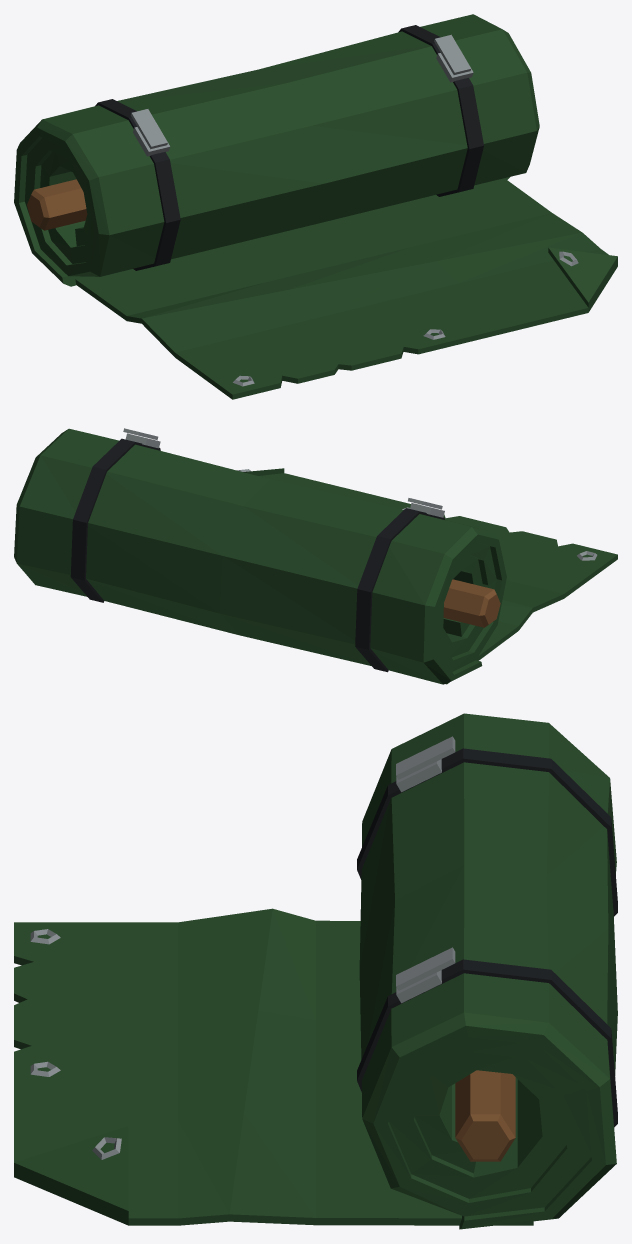
The model's file is rolled-pitch-tarpaulin-c8a93f.glb.
3 renders of one model, top to bottom at view 1: azimuth 30°, elevation 25°; view 2: azimuth 150°, elevation 25°; view 3: azimuth 270°, elevation 25°, orthographic. The views are drawn at different scales.
Visible parts, largest first — view 1: tarpaulin, straps-mesh, dog-ear-mesh; view 2: tarpaulin, straps-mesh; view 3: tarpaulin, straps-mesh, dog-ear-mesh.
Part boxes in pixels (left/top/right/bottom): tarpaulin: left=14, top=14, right=617, bottom=399; straps-mesh: left=95, top=25, right=483, bottom=270; dog-ear-mesh: left=548, top=247, right=617, bottom=307; tarpaulin: left=14, top=428, right=617, bottom=684; straps-mesh: left=70, top=428, right=444, bottom=672; tarpaulin: left=14, top=713, right=617, bottom=1229; straps-mesh: left=357, top=736, right=617, bottom=1127; dog-ear-mesh: left=14, top=1126, right=128, bottom=1218.
Size of the model in its own units: 2 by 0.6306 by 1.5.
